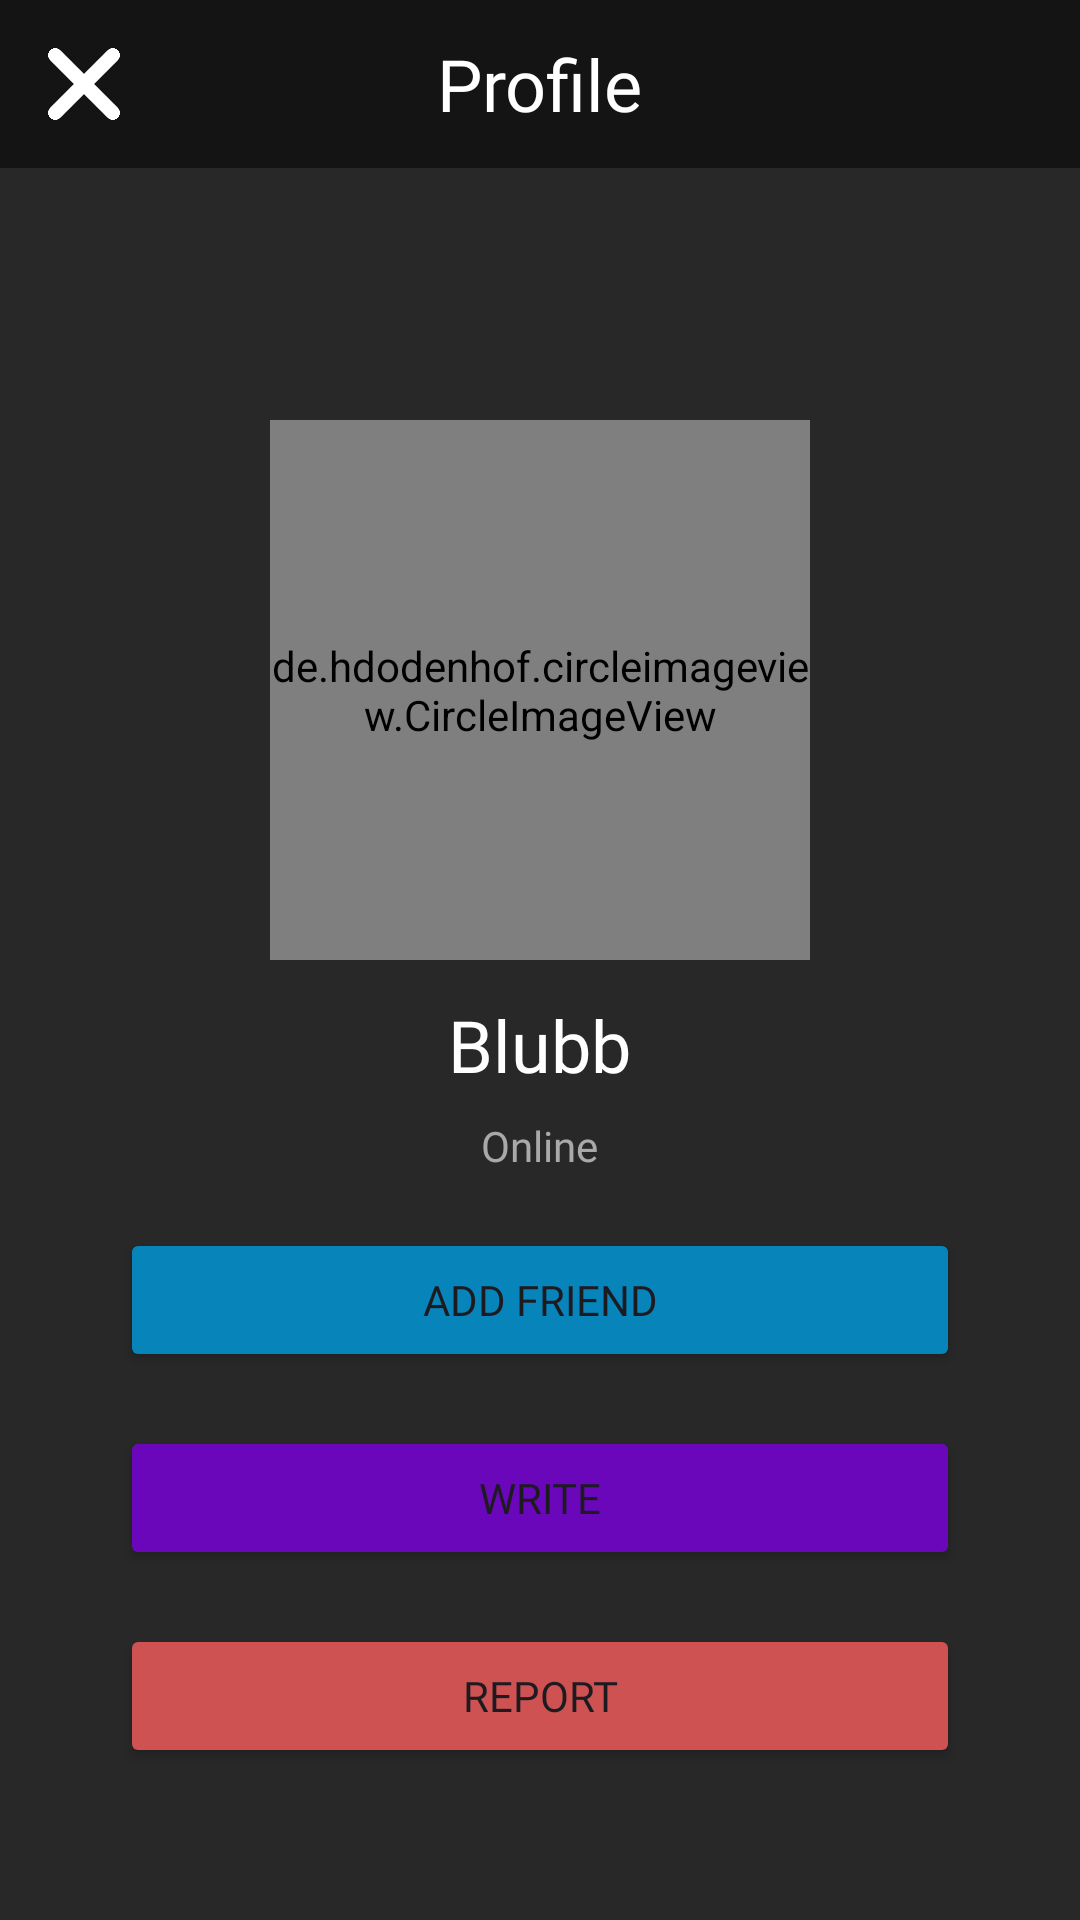

Icons on this 1080*1920 Android screen, each with its box as (x1, y1, x2, y2):
blubb close: (48, 48, 120, 120)
